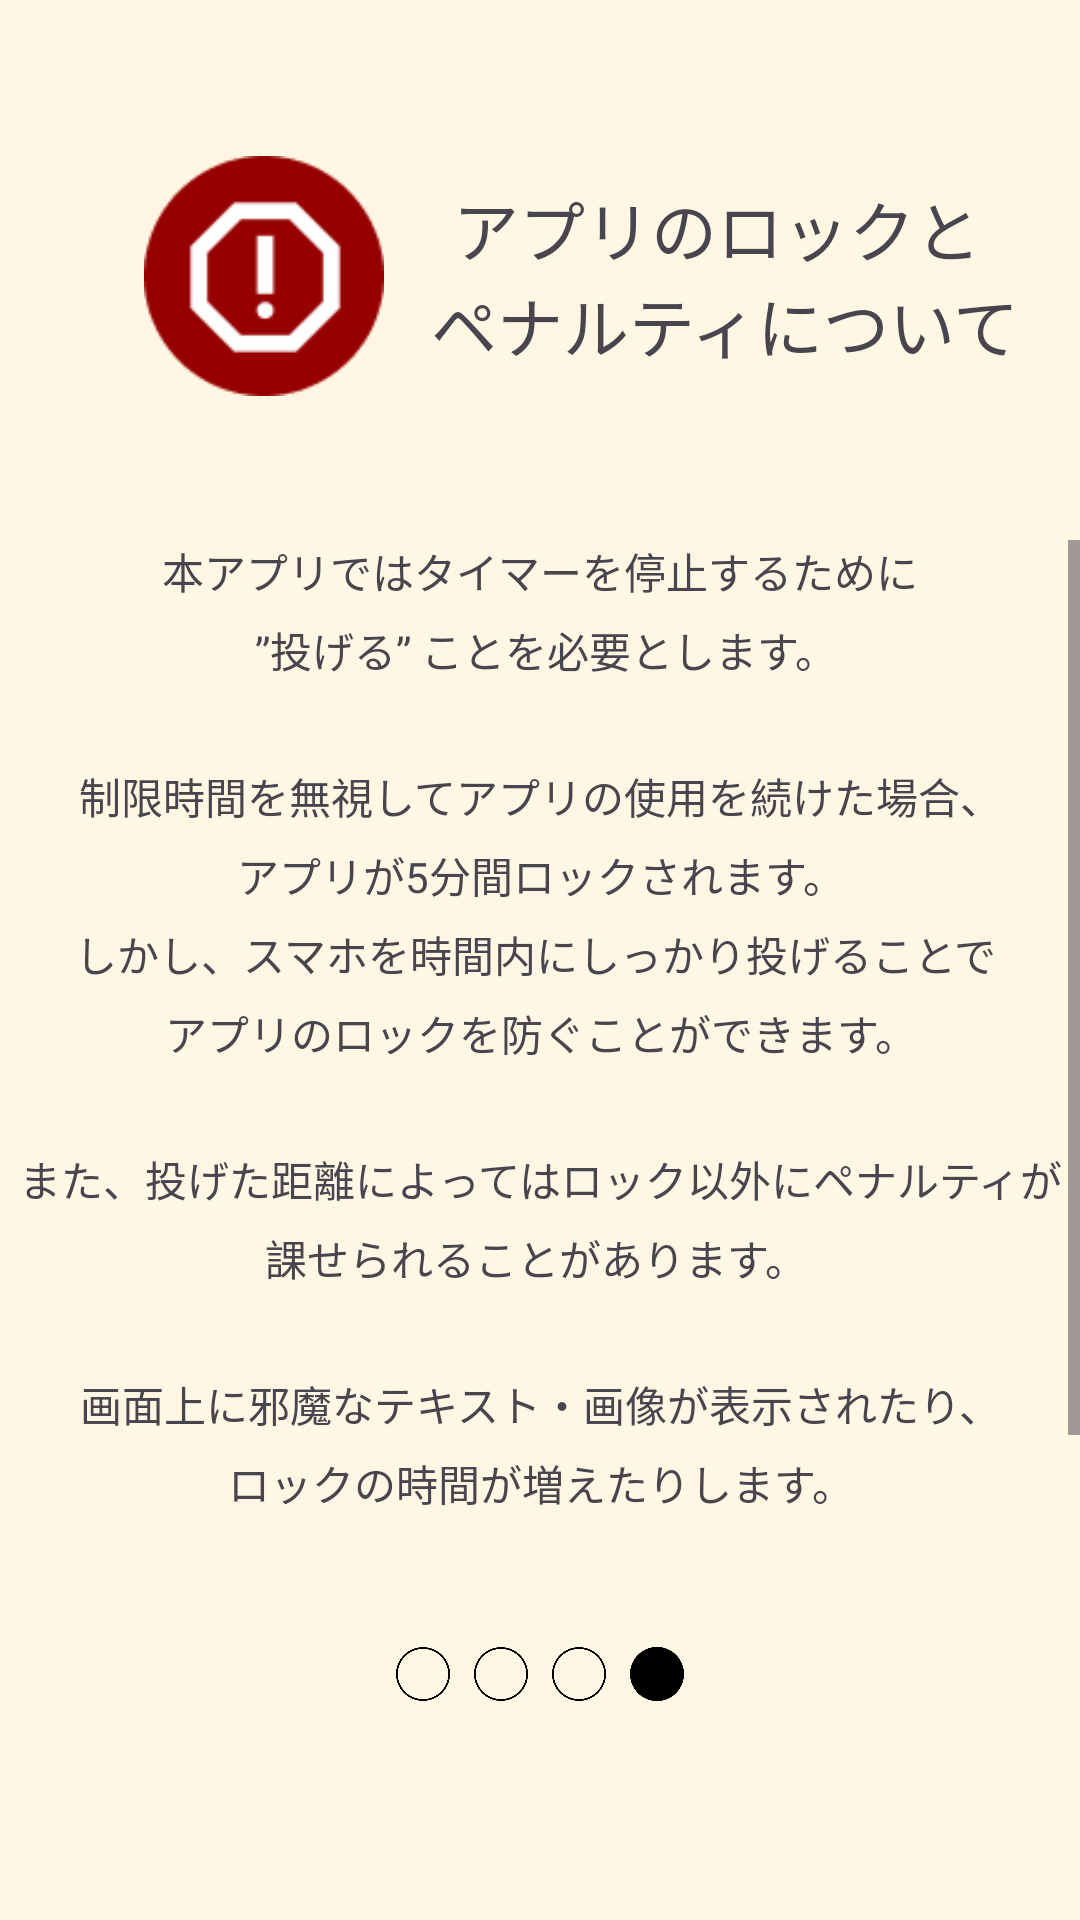

Icons on this 1080×1920 Android screen, each with the point to tap as (x,y):
help pagestatus false: (423,1674), (501,1674), (579,1674)
help pagestatus true: (657,1674)
